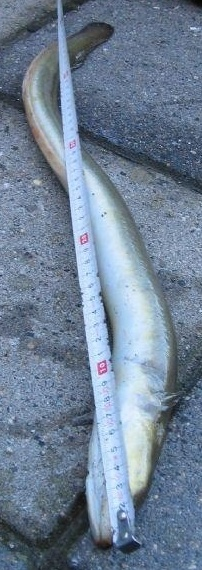Anguilla anguilla: (20, 20, 182, 550)
